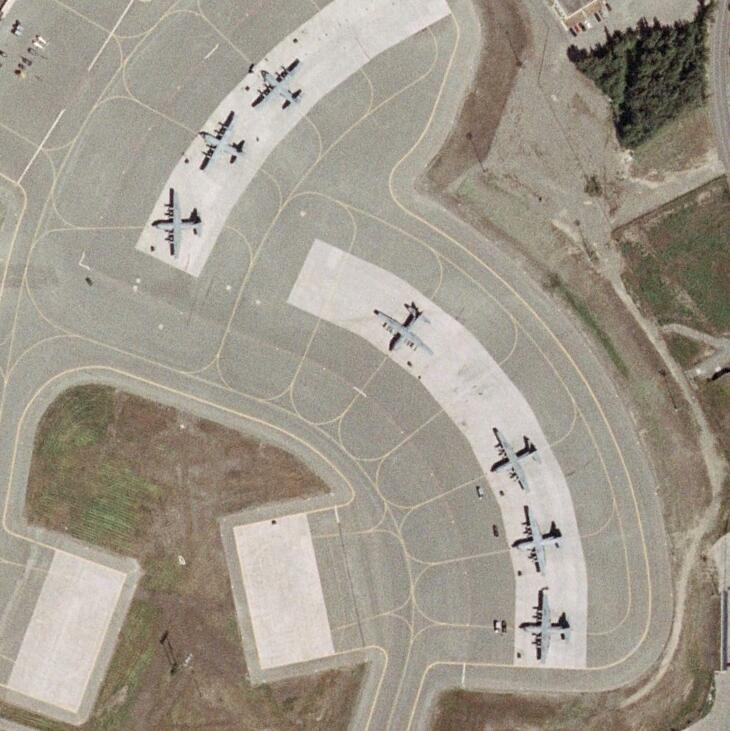A2: (517, 587, 574, 663), (509, 505, 566, 577), (150, 189, 205, 259), (488, 425, 543, 494), (374, 300, 437, 358), (197, 114, 246, 173), (251, 60, 306, 112)
